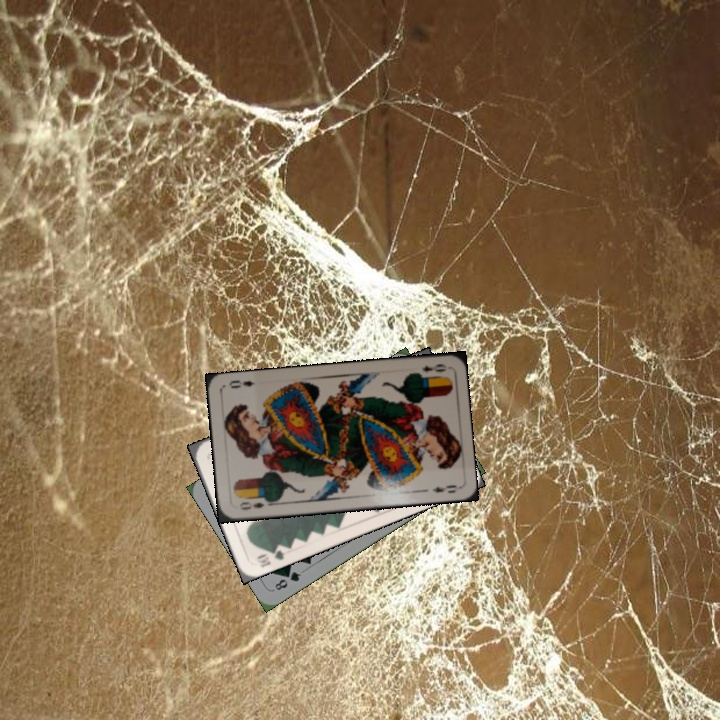EO: (236, 494, 273, 512), (418, 360, 449, 375)
G10: (253, 541, 289, 570)
G8: (269, 567, 304, 593)
